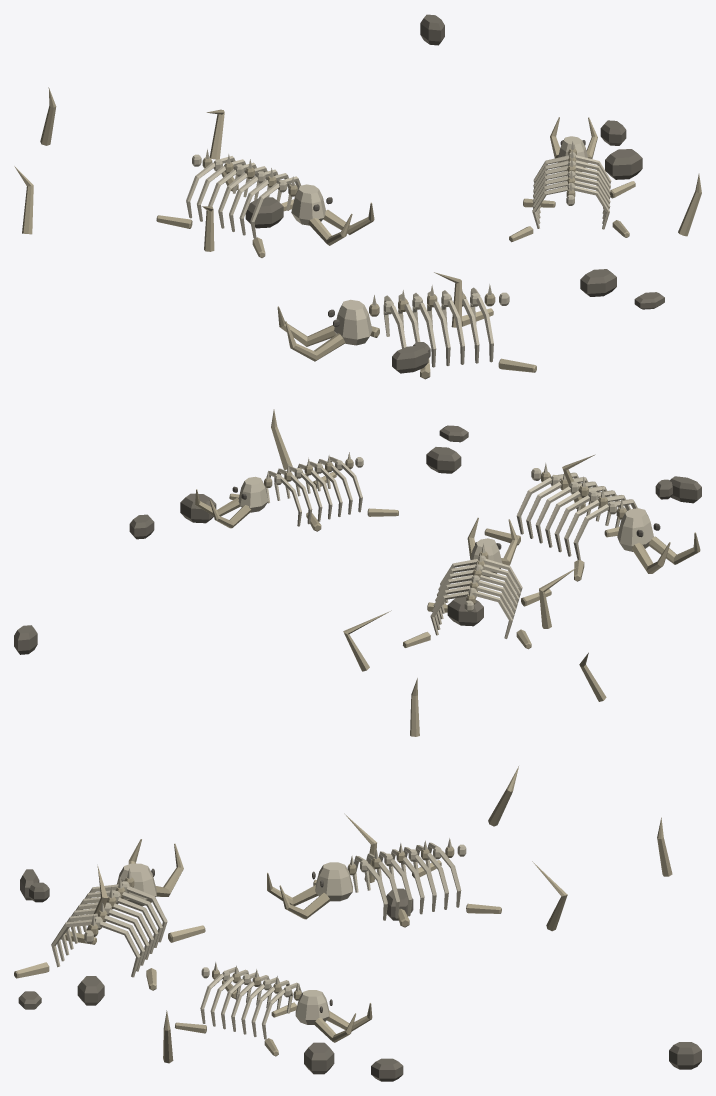
Rendered from landmark_mammoth_graveyard.glb.
The picture shows the model from 3 angles, top to bottom: view 1: azimuth 30°, elevation 25°; view 2: azimuth 150°, elevation 25°; view 3: azimuth 270°, elevation 25°; orthographic projection. The views are drawn at different scales.
Visible parts, largest first — view 1: landmark_mammoth_graveyard; view 2: landmark_mammoth_graveyard; view 3: landmark_mammoth_graveyard.
Boxes of the visible parts, x1,y1,x2,y2 form: landmark_mammoth_graveyard: (14, 14, 701, 379); landmark_mammoth_graveyard: (14, 409, 701, 736); landmark_mammoth_graveyard: (14, 766, 701, 1081).
Size of the model in its own units: 35.22 by 5.99 by 38.92.
